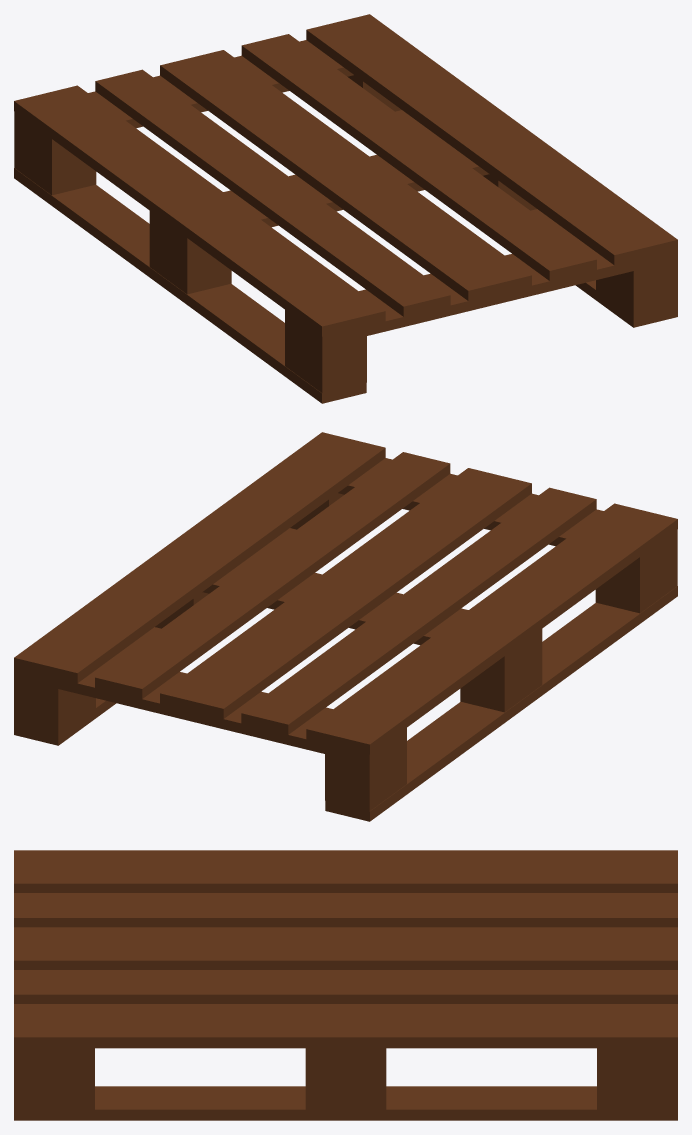
File: PH_Palette.fbx
The picture shows the model from 3 angles, top to bottom: view 1: azimuth 30°, elevation 25°; view 2: azimuth 150°, elevation 25°; view 3: azimuth 270°, elevation 25°; orthographic projection. The views are drawn at different scales.
Parts seen in each view (by area): view 1: Cube.006, Cube.007, Cube.004, Cube.008, Cube.005; view 2: Cube.006, Cube.007, Cube.004, Cube.008, Cube.005; view 3: Cube.006, Cube.007, Cube.008, Cube.004, Cube.005.
Boxes of the visible parts, x1,y1,x2,y2 form: Cube.006: (14,14,677,336); Cube.007: (95,34,596,316); Cube.004: (14,75,677,393); Cube.008: (14,110,677,403); Cube.005: (14,40,677,346); Cube.006: (14,432,677,754); Cube.007: (95,452,596,734); Cube.004: (14,493,677,811); Cube.008: (14,528,677,821); Cube.005: (14,458,677,764); Cube.006: (14,850,677,1048); Cube.007: (14,893,677,1003); Cube.008: (14,1086,677,1120); Cube.004: (14,1059,677,1109); Cube.005: (14,1048,677,1059).
Size of the model in its own units: 80 by 16.6 by 120.
